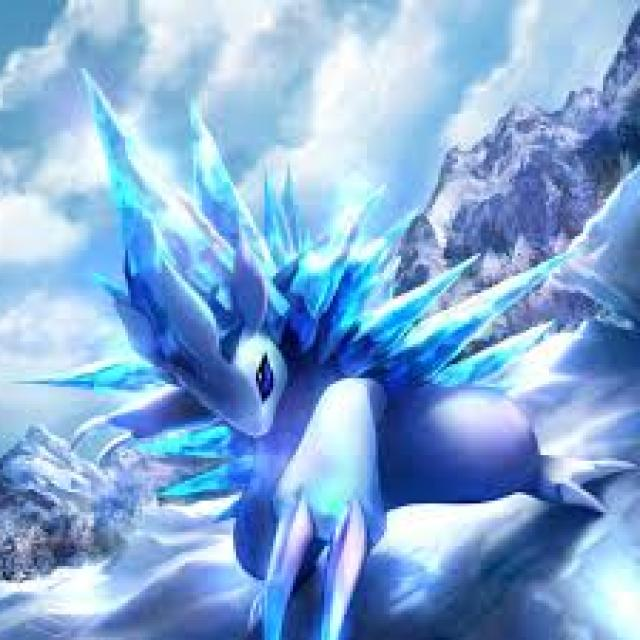Alolan: (118, 200, 584, 636)
